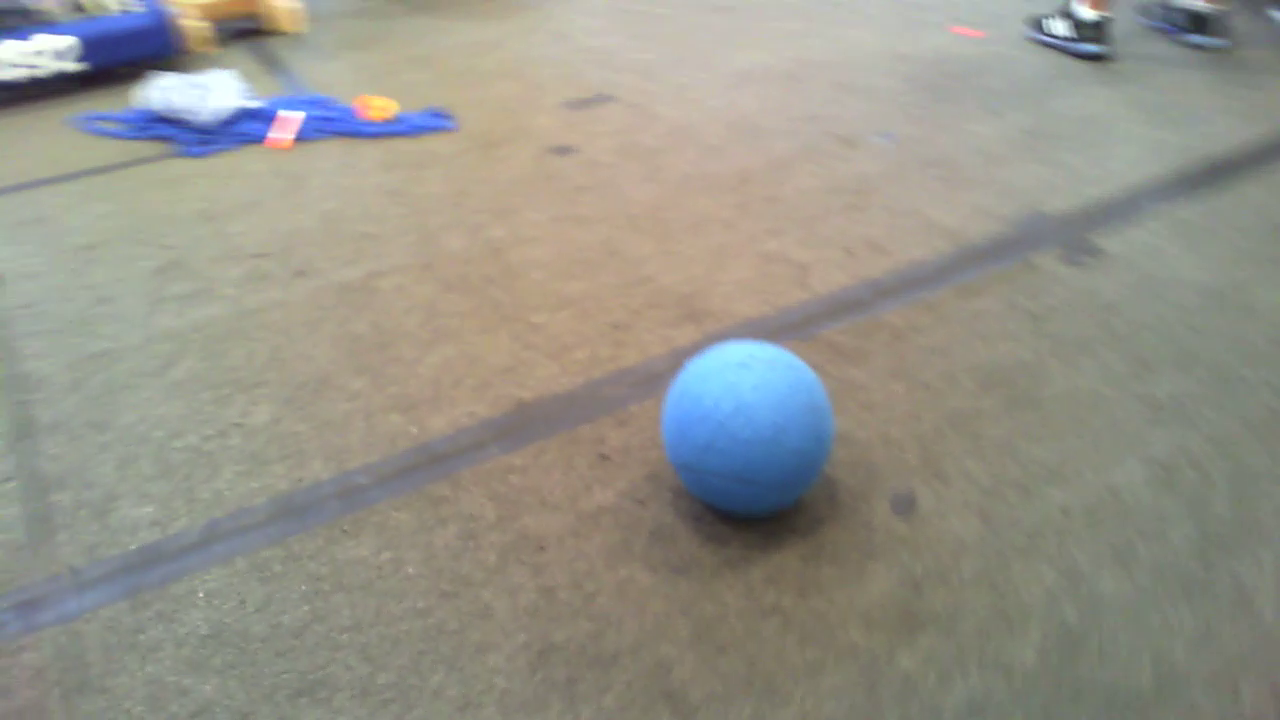blue_cargo: (664, 330, 832, 518)
